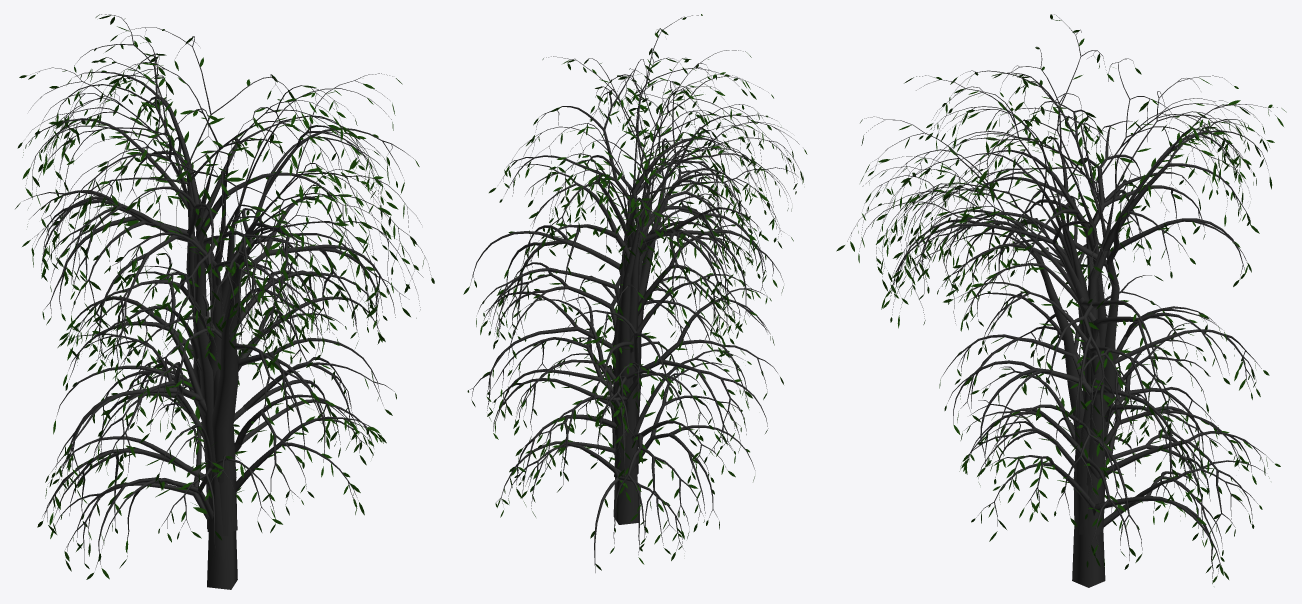
File: Tree 4.obj
3 renders of one model, left to right at view 1: azimuth 30°, elevation 25°; view 2: azimuth 150°, elevation 25°; view 3: azimuth 270°, elevation 25°, orthographic. The views are drawn at different scales.
Parts seen in each view (by area): view 1: tree_tree.004, leaves_leaves.003; view 2: tree_tree.004, leaves_leaves.003; view 3: tree_tree.004, leaves_leaves.003.
Part boxes in pixels (x1,y1,x2,y2): tree_tree.004: [24, 14, 431, 589]; leaves_leaves.003: [15, 14, 434, 579]; tree_tree.004: [468, 15, 803, 572]; leaves_leaves.003: [463, 14, 807, 570]; tree_tree.004: [847, 14, 1277, 587]; leaves_leaves.003: [836, 14, 1286, 583].
Bounding box in the file's own units: 12.99 × 19.84 × 15.02.
